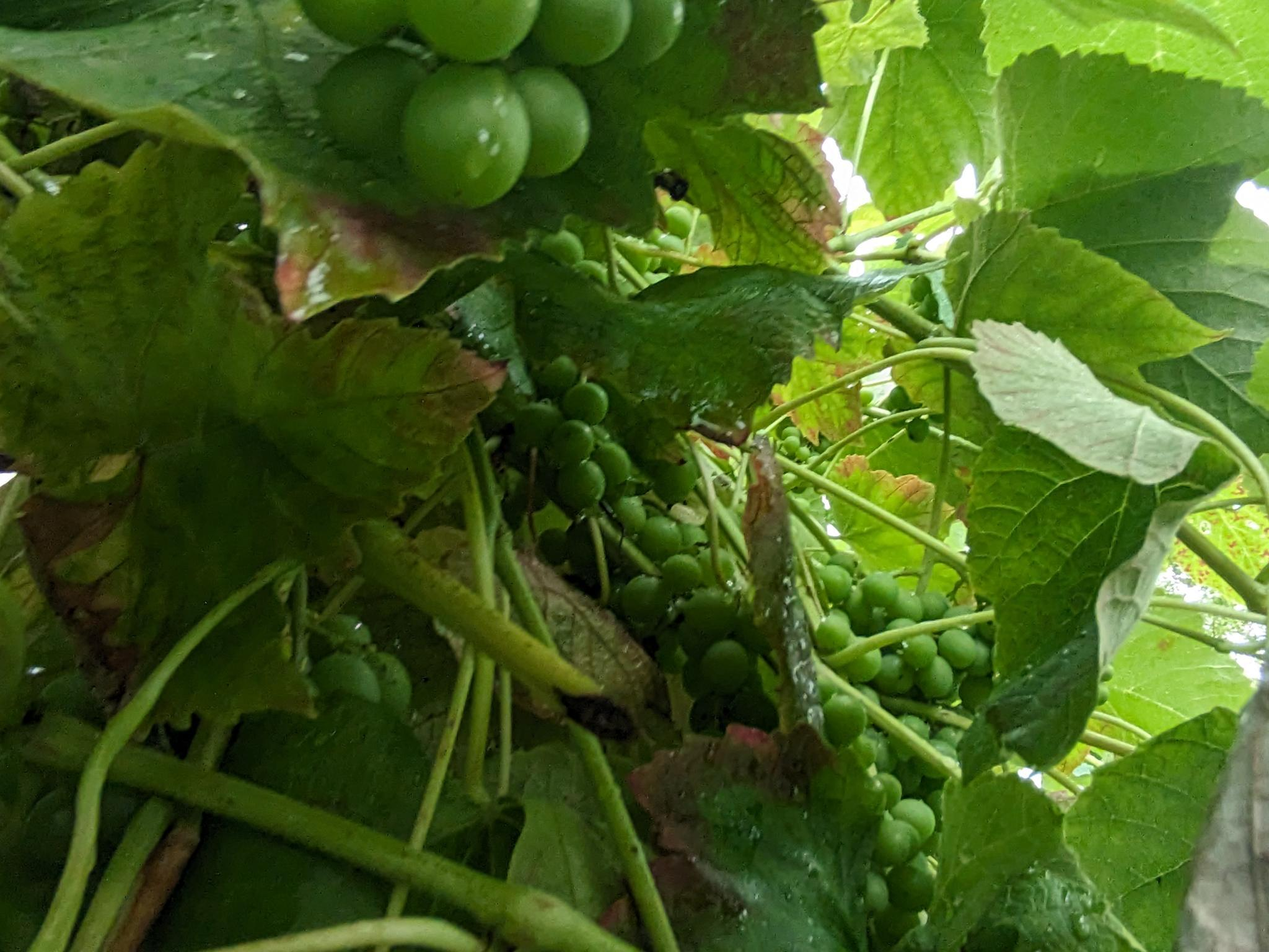Grape Unripe: (514, 361, 777, 732), (301, 0, 682, 208), (813, 554, 996, 943), (534, 211, 692, 284), (889, 276, 948, 443), (309, 614, 414, 707), (783, 431, 835, 472)
